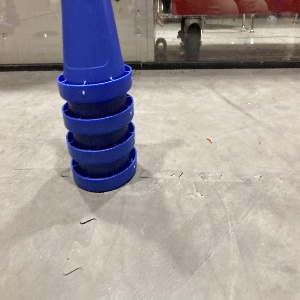Blue_5: (55, 0, 137, 194)
